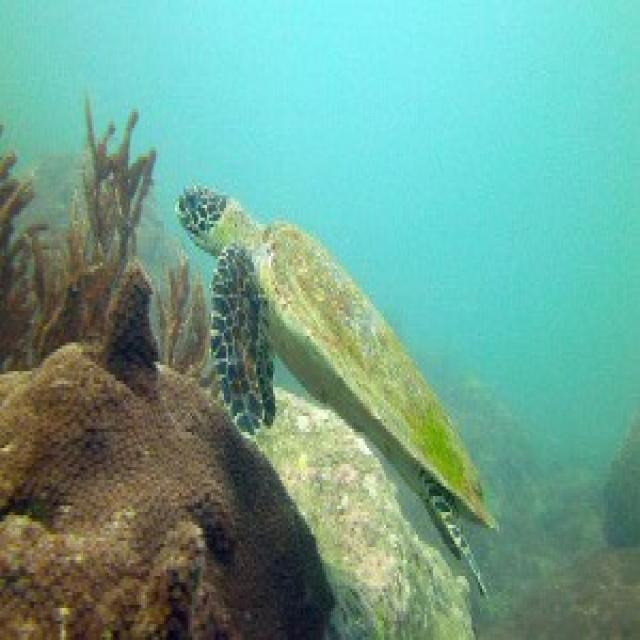Sea turtle: (52, 115, 589, 632)
